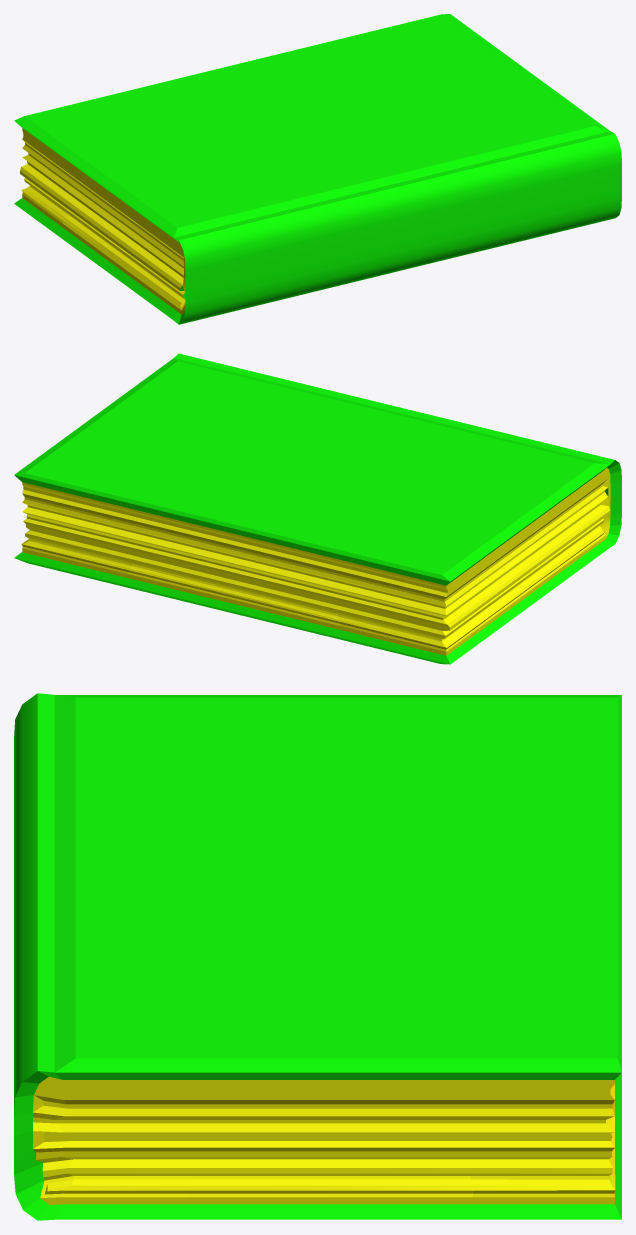
File: Book.fbx
3 views of the same model, one above another, from view 1: azimuth 30°, elevation 25°; view 2: azimuth 150°, elevation 25°; view 3: azimuth 270°, elevation 25° (orthographic). The views are drawn at different scales.
Visible parts, largest first — view 1: Book, Pages; view 2: Book, Pages; view 3: Book, Pages.
Part boxes in pixels (bbox=[...]): Book: bbox=[14, 14, 621, 324]; Pages: bbox=[20, 128, 185, 314]; Book: bbox=[14, 353, 621, 664]; Pages: bbox=[21, 468, 610, 655]; Book: bbox=[14, 693, 621, 1220]; Pages: bbox=[33, 1076, 615, 1204].
Size of the model in its own units: 11.21 by 2.21 by 7.63.
